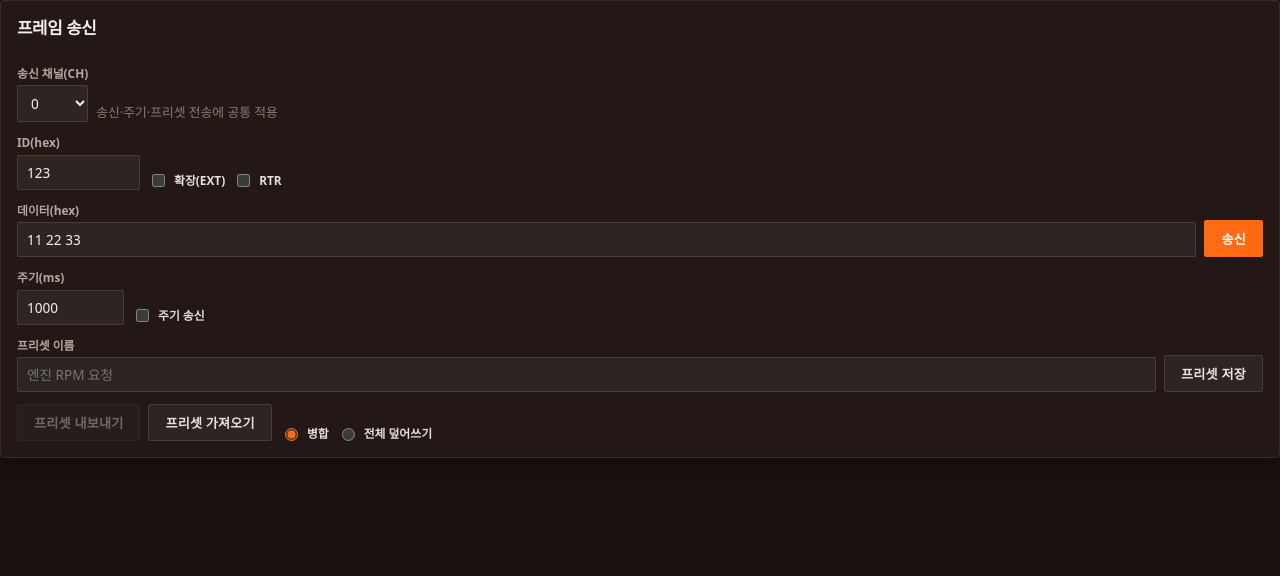
Test: 프리셋 이름 변경(인라인 편집) › Esc 를 누르면 편집이 취소되고 원래 이름이 유지된다
This screenshot has width=1280, height=576.
Replace the text in the field labelled "ID(hex)" with "111". click: coordinates (78, 172)
box: [17,155,140,190]
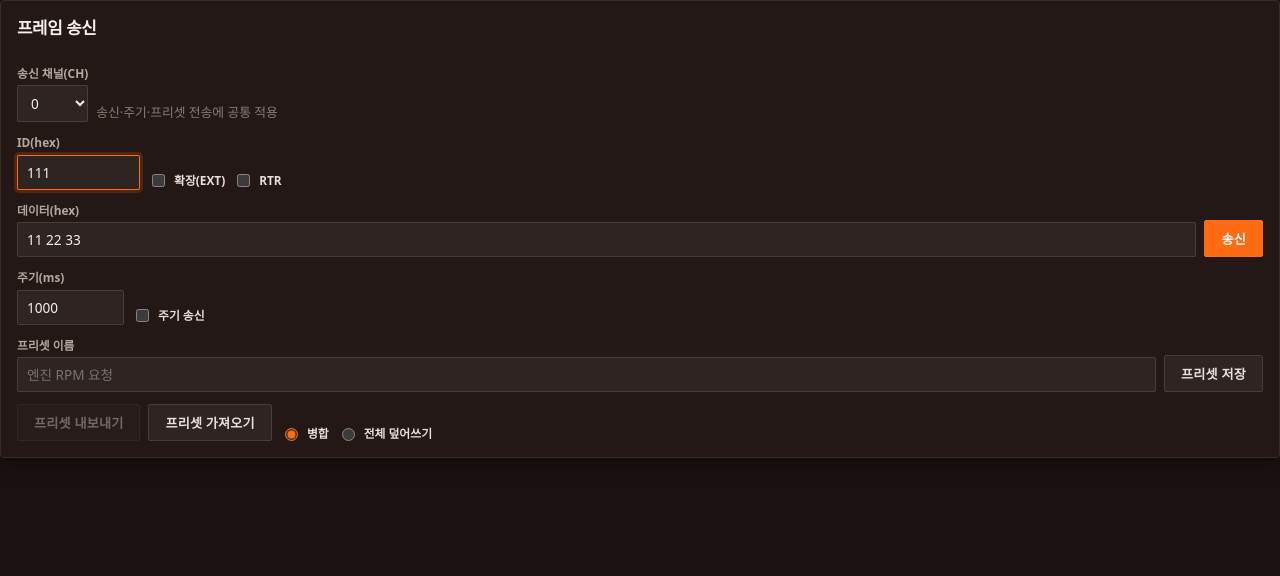
Type "원래이름" into the field with placeholder "엔진 RPM 요청". click: coordinates (587, 375)
box: [17,357,1156,392]
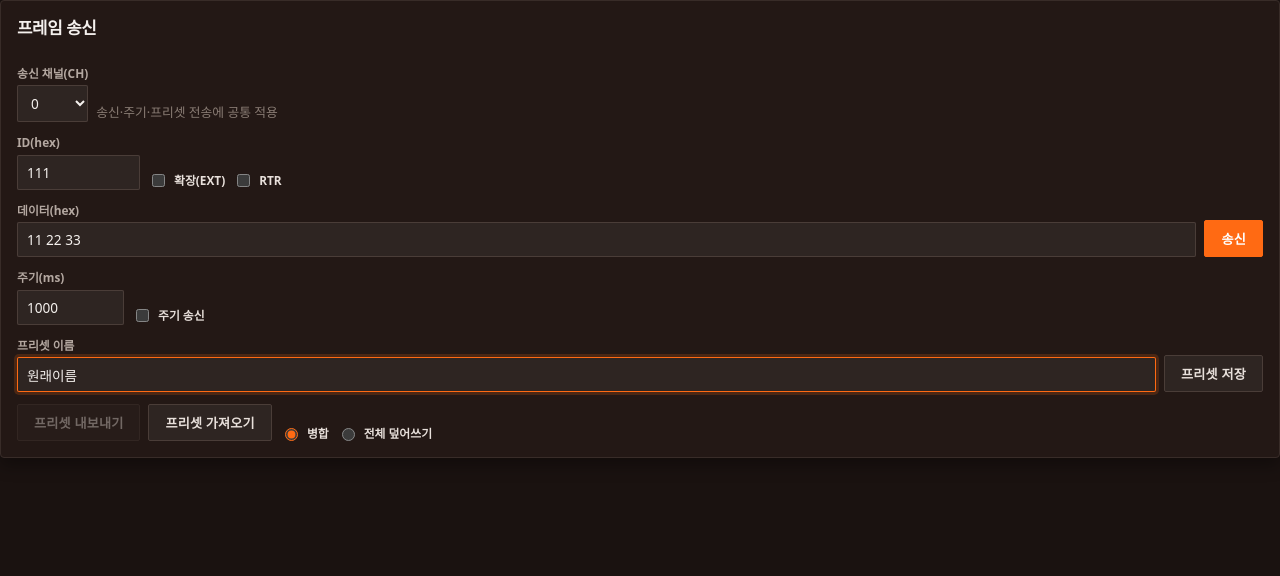
Click the button "프리셋 저장". click: coordinates (1214, 374)
box: [1164,355,1263,392]
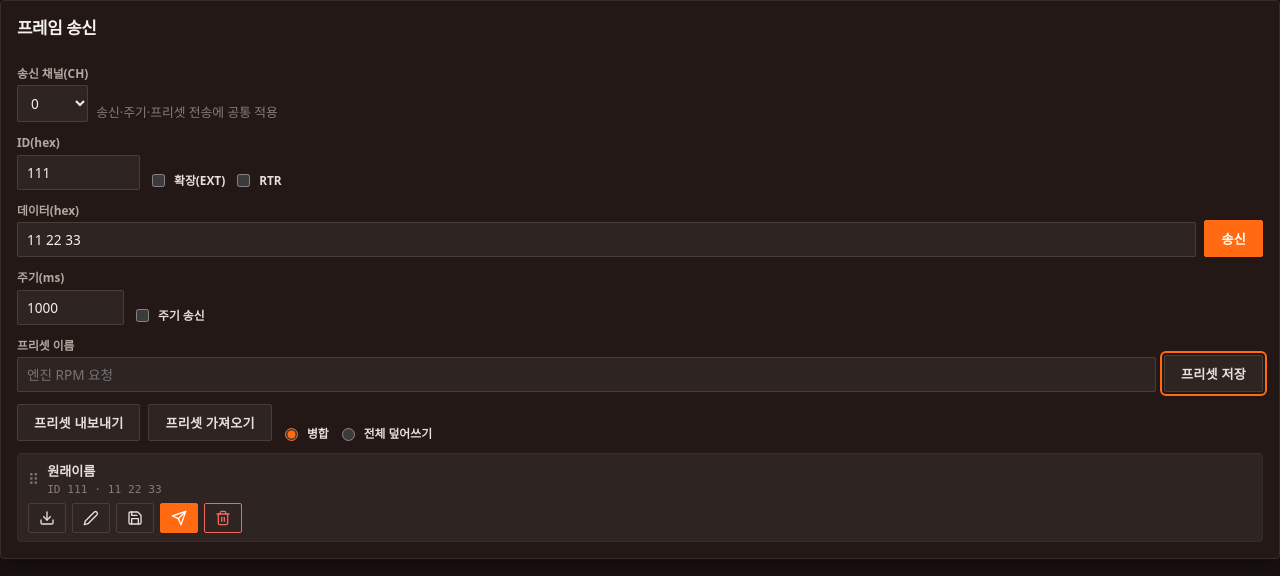
Click the button named "이름 변경". click: coordinates (91, 518)
box: [72,504,110,534]
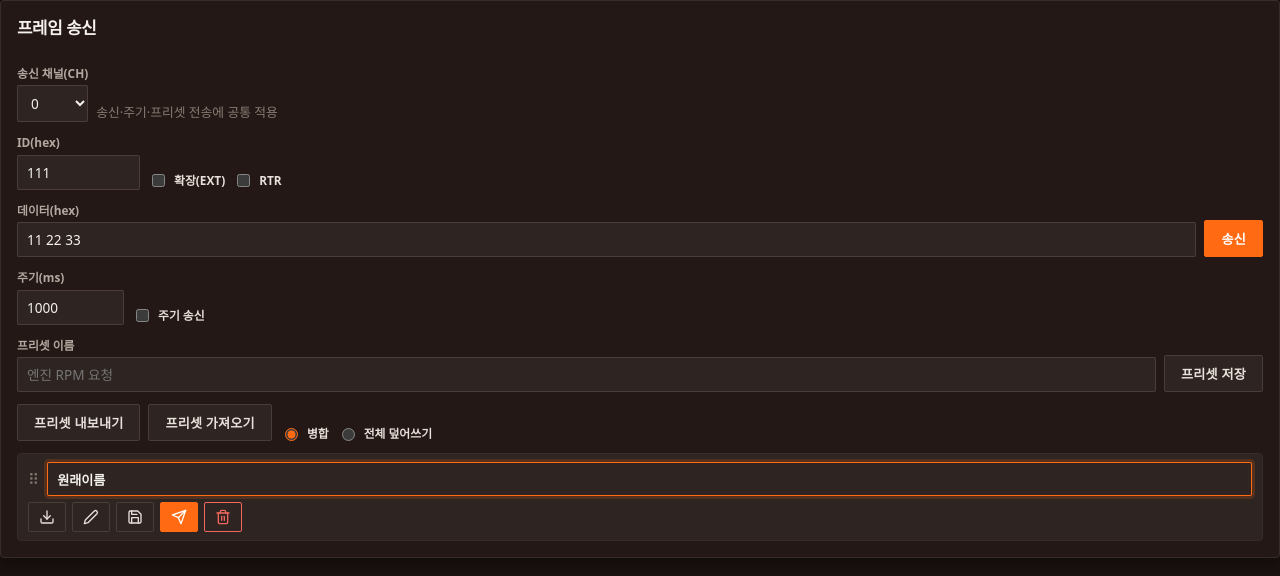
Replace the text in the field named "원래이름 이름 변경" with "바뀐이름". click: coordinates (650, 479)
box: [47,462,1252,496]
Then press Escape
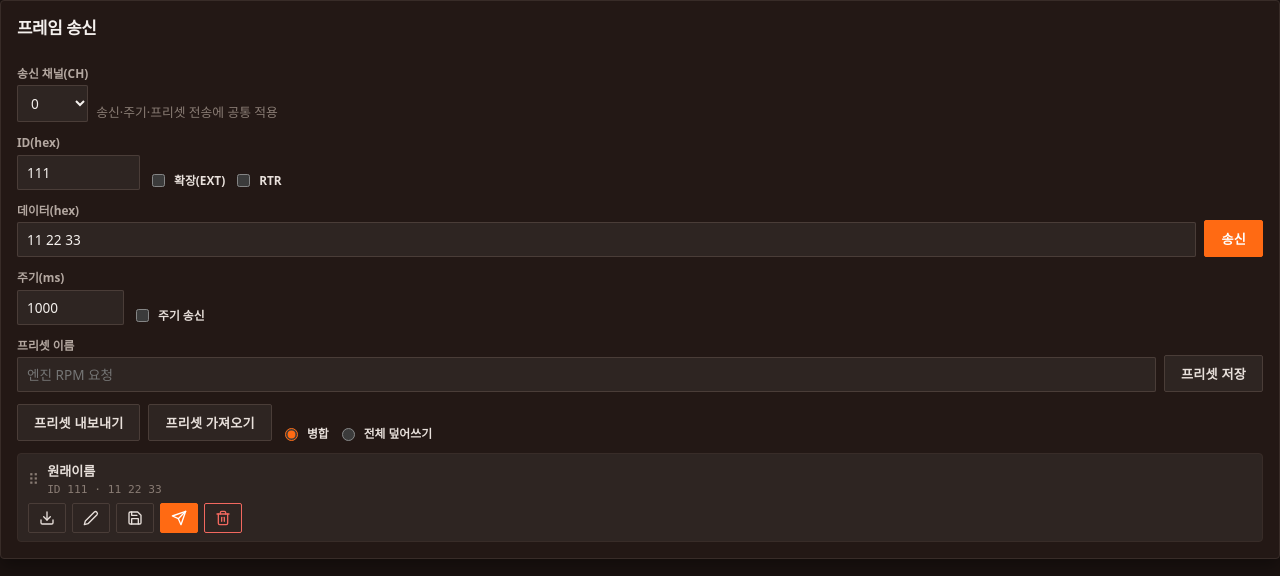
expect the text "원래이름" is shown: met, box [47,462,95,480]
